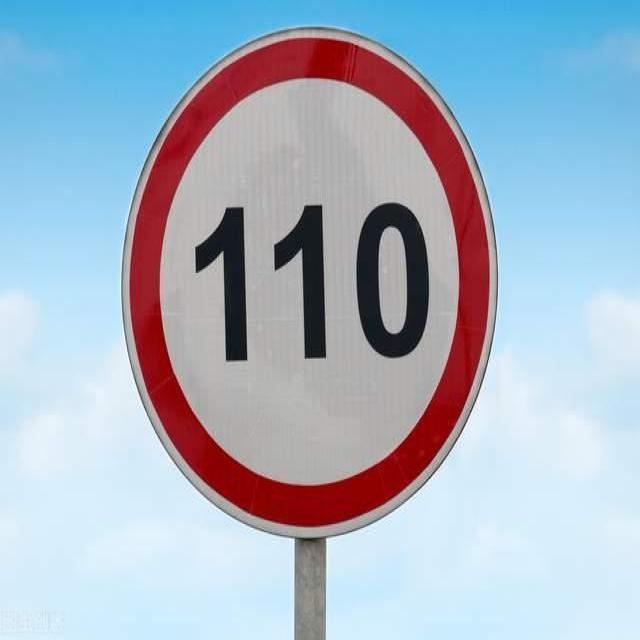speed limit 110: (120, 26, 498, 542)
